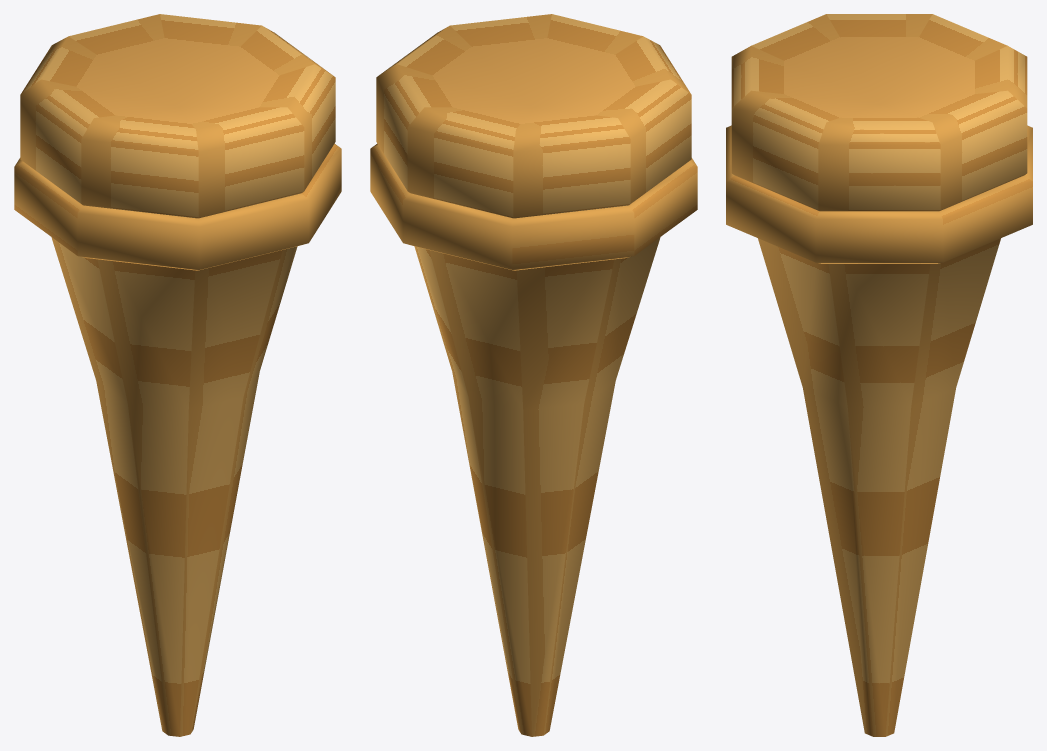
3 renders of one model, left to right at view 1: azimuth 30°, elevation 25°; view 2: azimuth 150°, elevation 25°; view 3: azimuth 270°, elevation 25°, orthographic.
Visible parts, largest first — view 1: Cone cone, Cone rim; view 2: Cone cone, Cone rim; view 3: Cone cone, Cone rim.
Part boxes in pixels (bbox=[...]): Cone cone: bbox=[20, 14, 335, 736]; Cone rim: bbox=[14, 143, 341, 270]; Cone cone: bbox=[376, 14, 691, 736]; Cone rim: bbox=[370, 143, 697, 270]; Cone cone: bbox=[731, 14, 1027, 736]; Cone rim: bbox=[726, 125, 1032, 263].
Size of the model in its own units: 0.0772 by 0.184 by 0.0772.
Materials: 2 (2 with a texture image).
